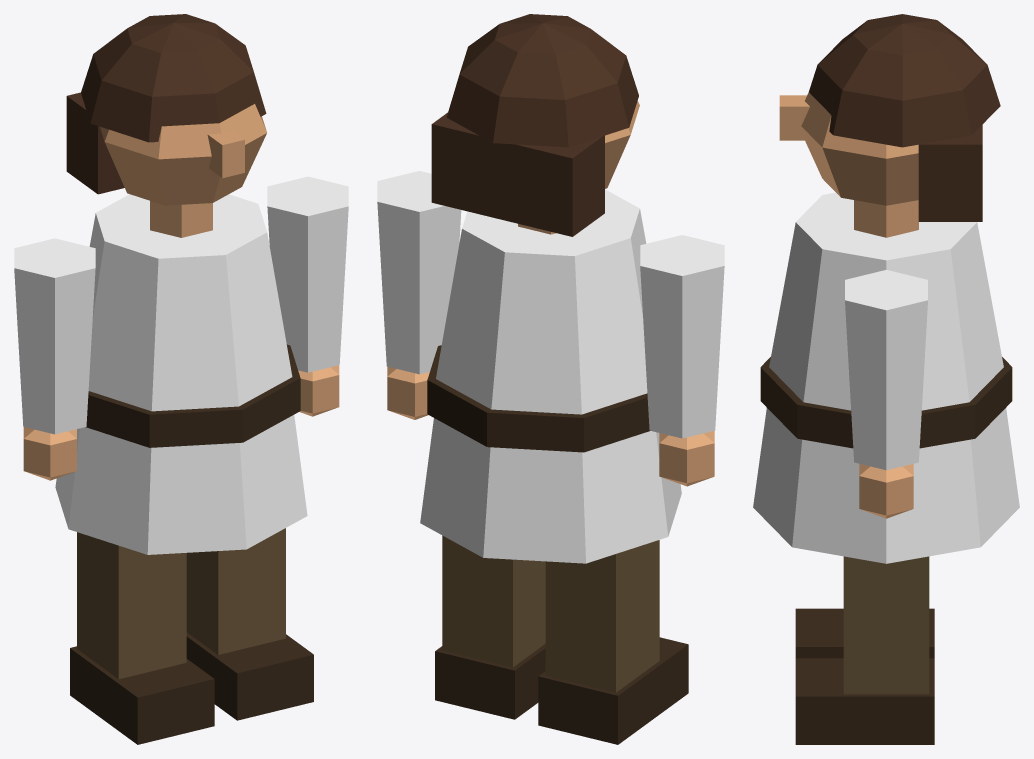
File: villager.glb
3 renders of one model, left to right at view 1: azimuth 30°, elevation 25°; view 2: azimuth 150°, elevation 25°; view 3: azimuth 270°, elevation 25°, orthographic. The views are drawn at different scales.
Visible parts, largest first — view 1: body, leg_r, leg_l, arm_r, arm_l; view 2: body, leg_r, arm_r, leg_l, arm_l; view 3: body, leg_l, arm_l, leg_r.
Boxes of the visible parts, x1,y1,x2,y2 form: body: (55,14,307,554); leg_r: (70,532,214,744); leg_l: (186,528,313,720); arm_r: (14,238,95,480); arm_l: (267,176,348,416); body: (420,14,681,563); leg_r: (538,540,688,744); arm_r: (640,235,724,486); leg_l: (435,535,545,719); arm_l: (377,171,461,419); body: (753,14,1019,563); leg_l: (795,556,934,744); arm_l: (845,270,927,518); leg_r: (795,608,934,658).
Size of the model in its own units: 0.37 by 0.7 by 0.25.
